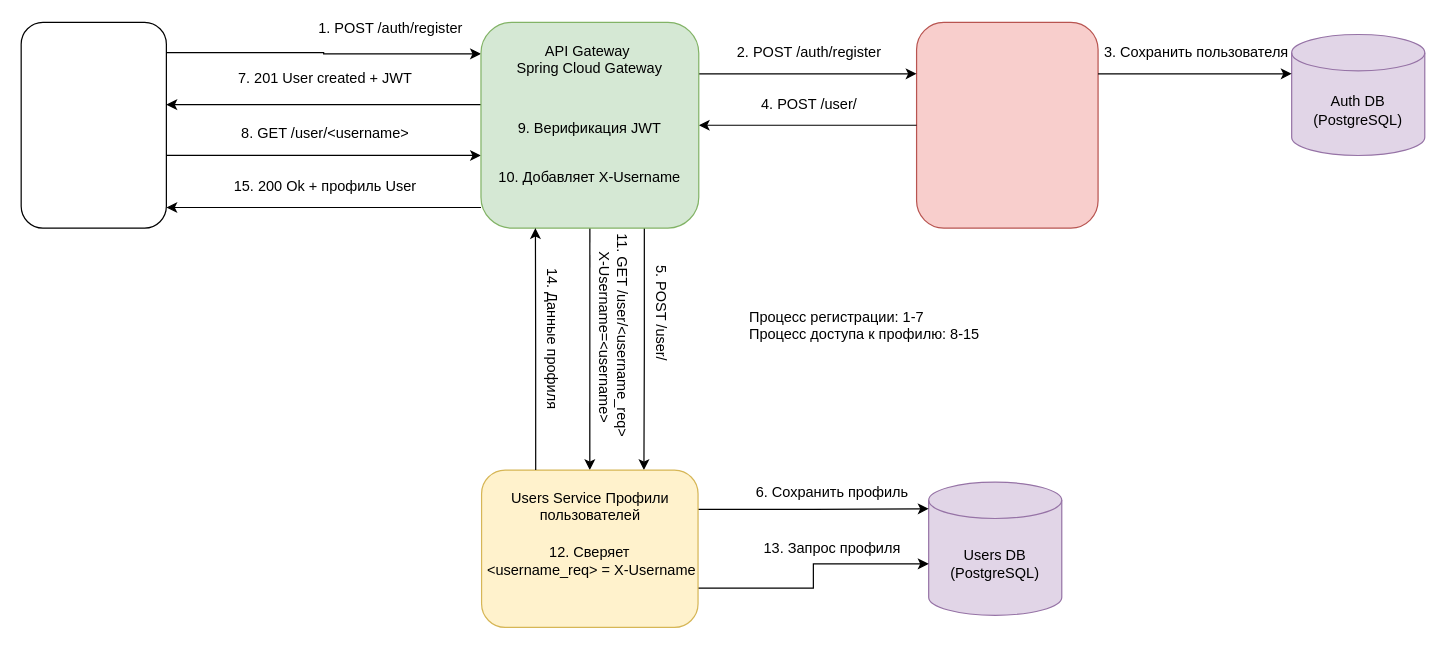
Some shapes in this 1446 by 650 pixel diagram are drawn without their labels. The shapes that lost their labels are listed below. From the top down, each one's centre as x and y in pixels, then its label:
At point (93, 124): "Клиент (Browser/App)".
At point (1006, 124): "Auth Service JWT генерация/верификация".
